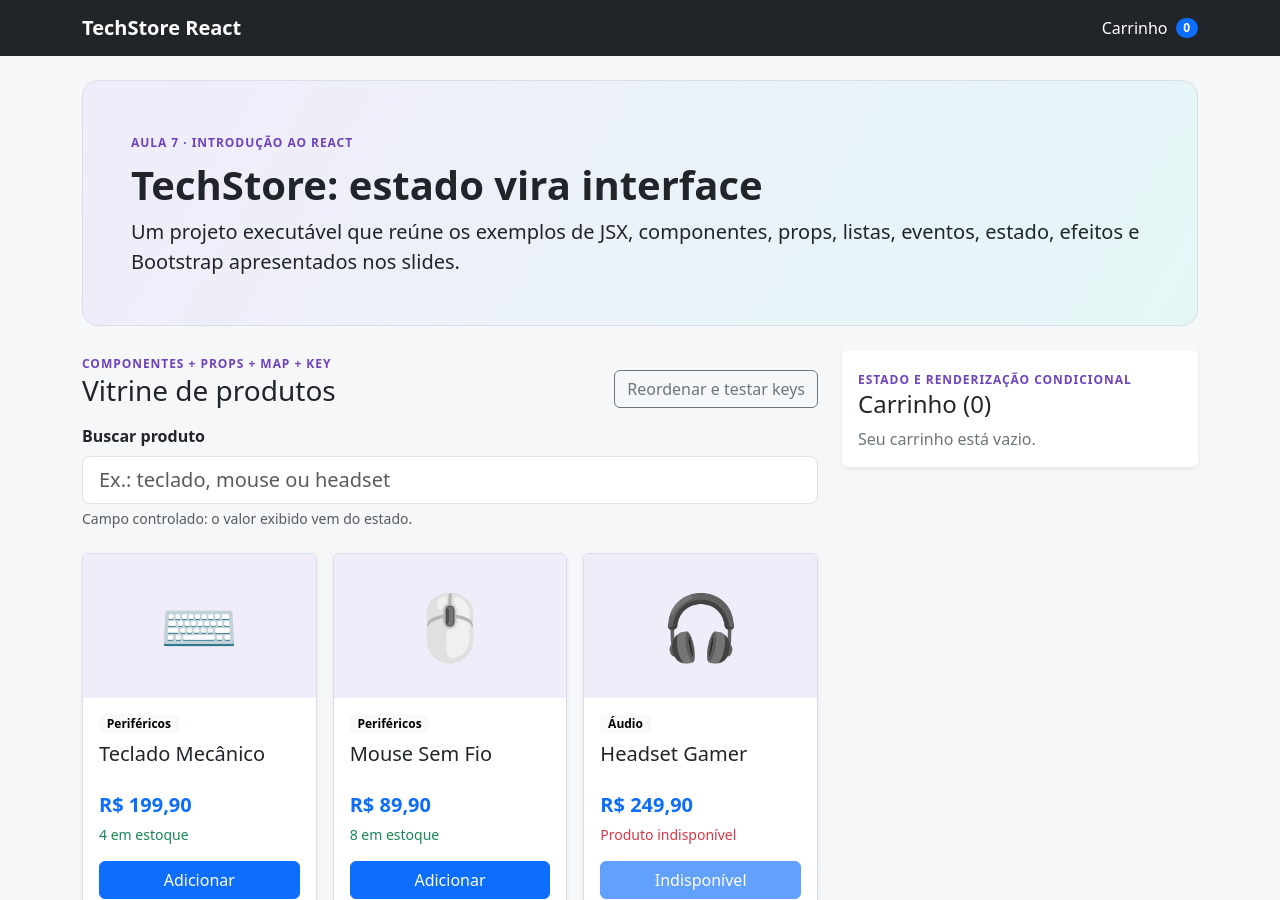
Test: TechStore › filtra produtos por um campo controlado
Expected: the heading "Teclado Mecânico" is shown, [99, 740, 265, 767]
Type "mouse" into the search field labelled "Buscar produto" at [450, 480], box [82, 456, 818, 504]
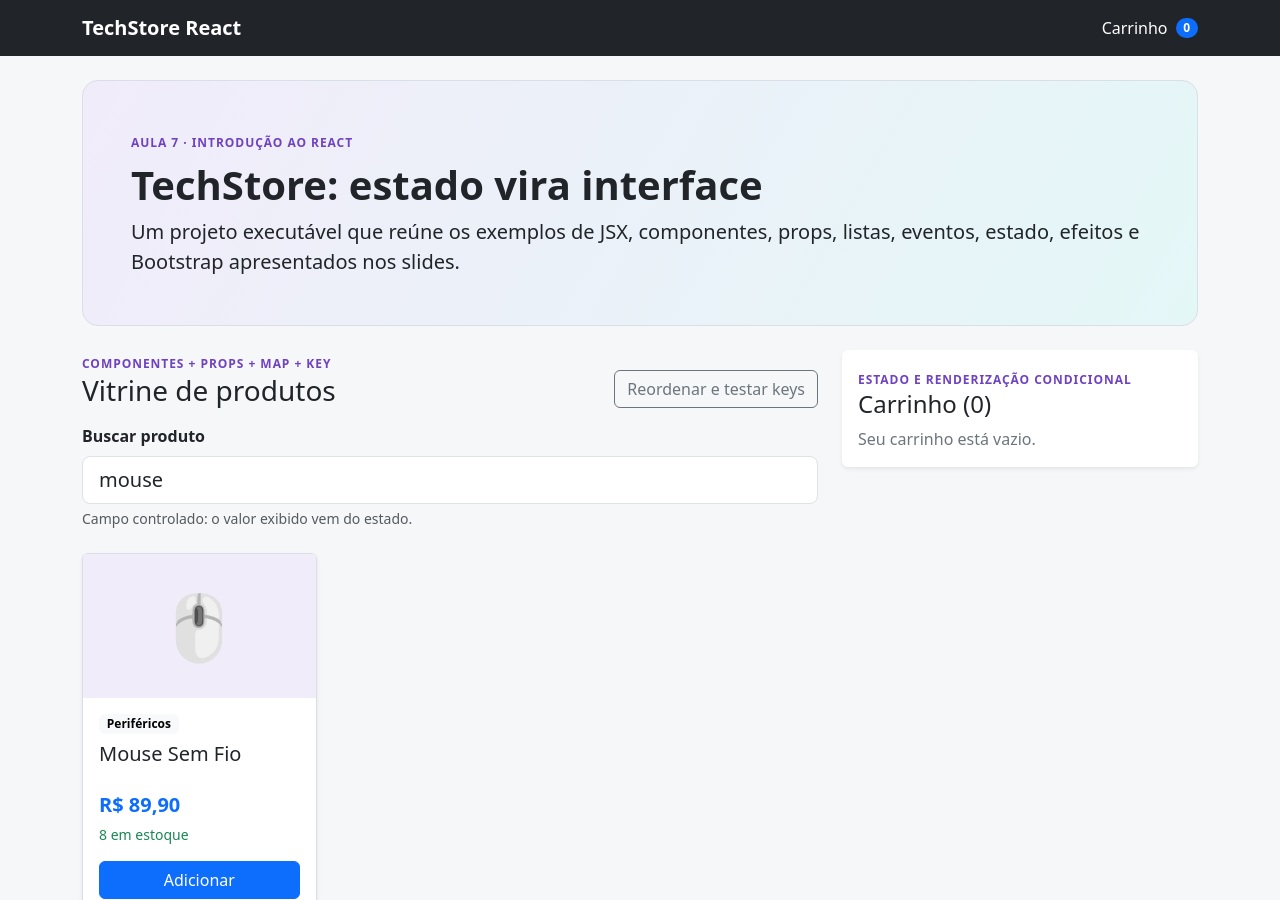
Expected: the heading "Mouse Sem Fio" is shown, [99, 740, 242, 767]
Expected: the heading "Teclado Mecânico" is gone
